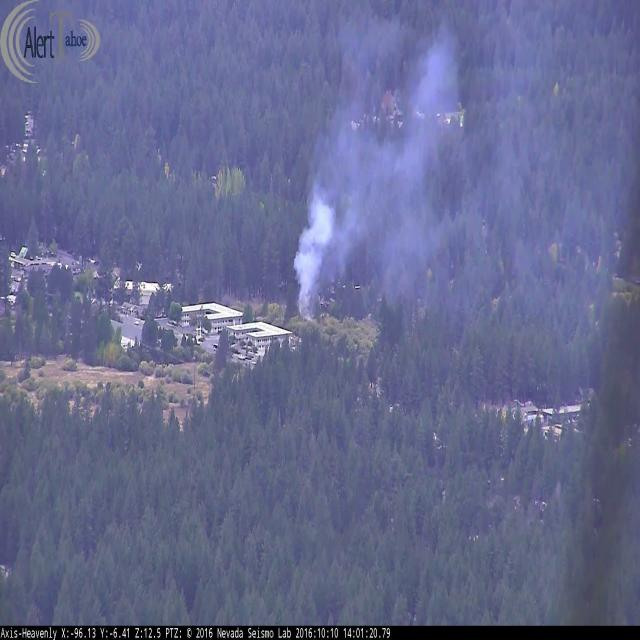smoke: (296, 14, 481, 329)
